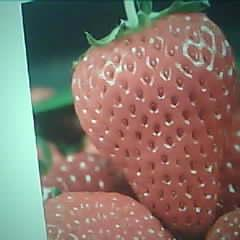straw-ripe: (72, 15, 237, 232)
